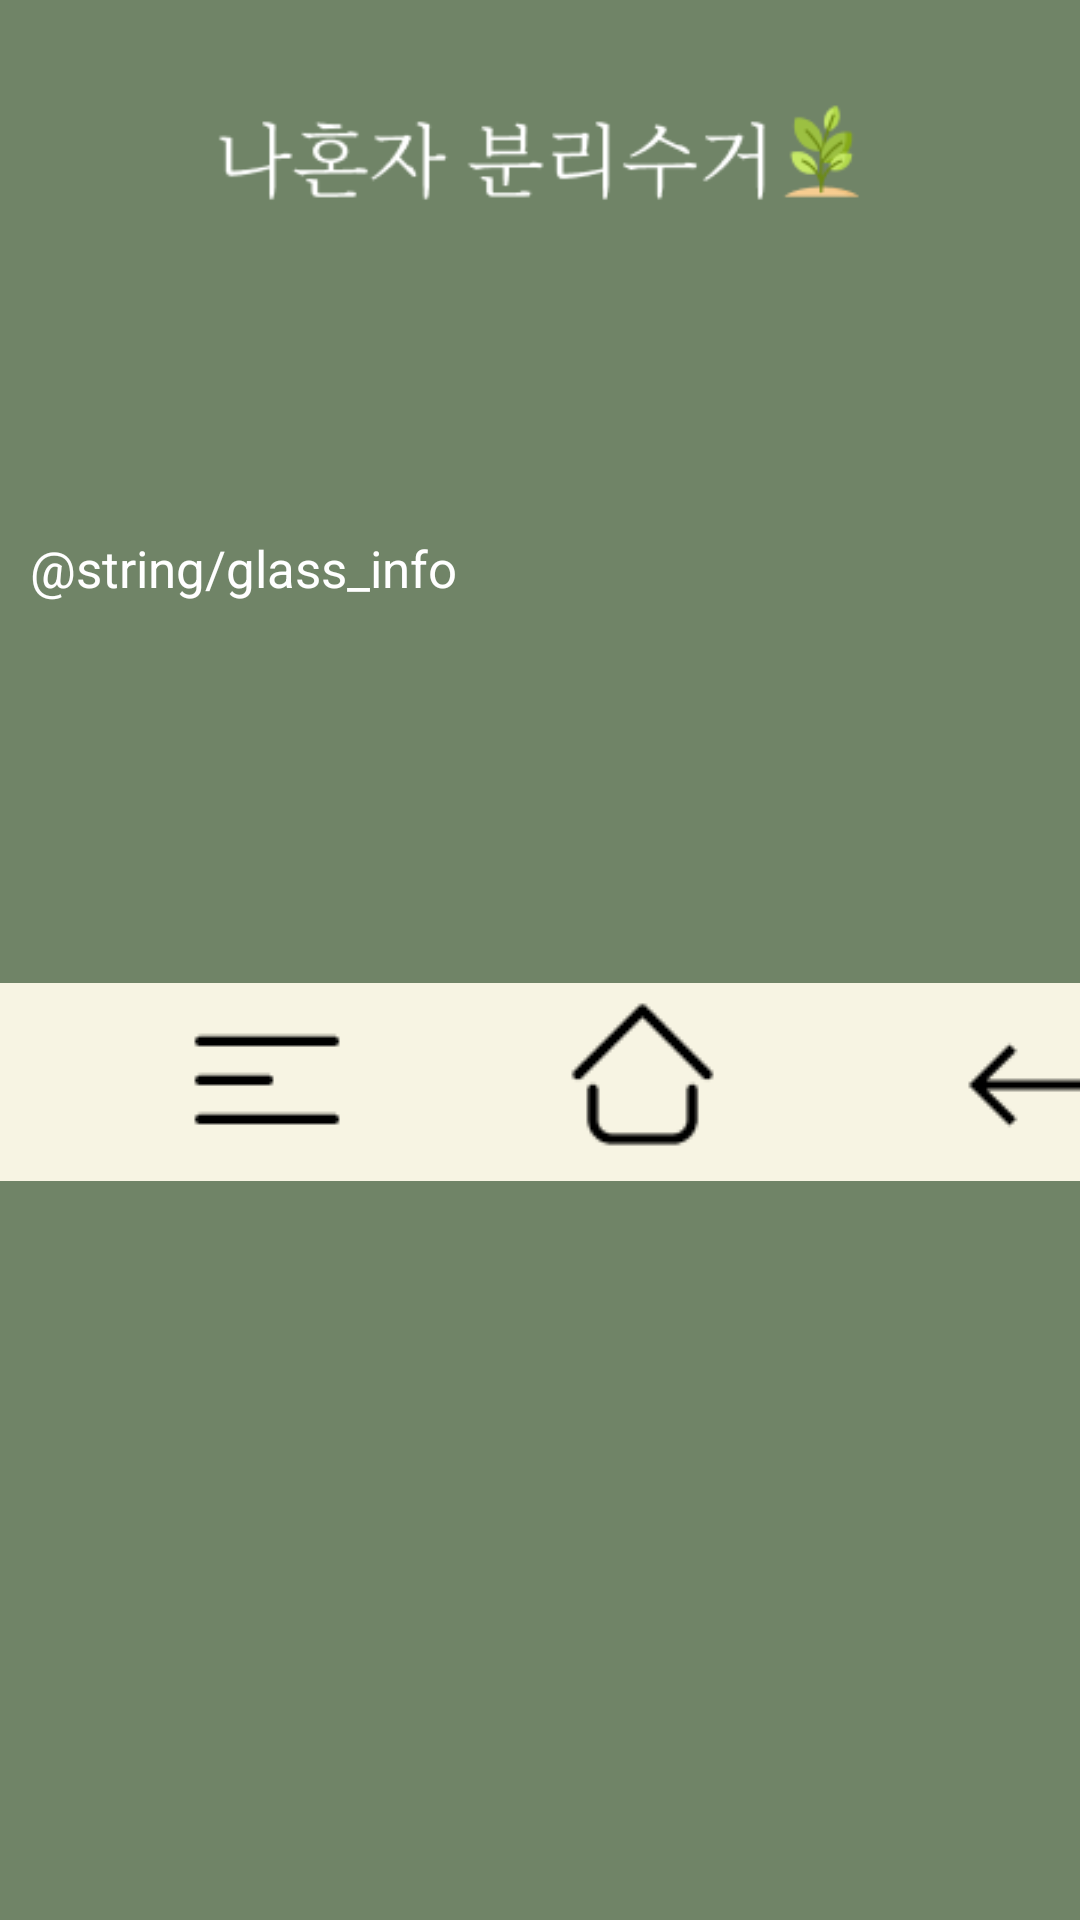

Where icons sit on this 1080 × 1920 app screen, as (x1, y1, x2, y2):
home: (571, 1003, 714, 1146)
menu: (194, 1034, 340, 1125)
